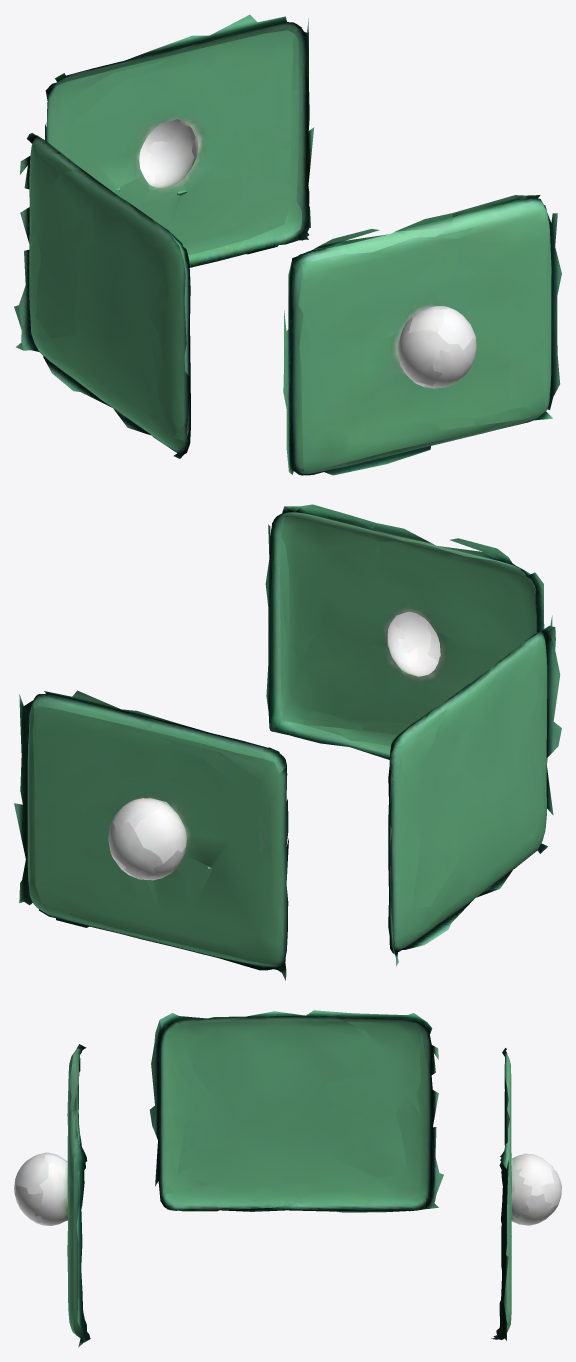
File: drawer_bottom_left.glb
3 renders of one model, top to bottom at view 1: azimuth 30°, elevation 25°; view 2: azimuth 150°, elevation 25°; view 3: azimuth 270°, elevation 25°, orthographic. The views are drawn at different scales.
Visible parts, largest first — view 1: geometry_0; view 2: geometry_0; view 3: geometry_0.
Boxes of the visible parts, x1,y1,x2,y2 form: geometry_0: (14,14,561,475); geometry_0: (14,504,561,980); geometry_0: (14,1010,561,1347).
Bounding box in the file's own units: 0.1226 × 0.0829 × 0.197.
Materials: 1 (1 with a texture image).
